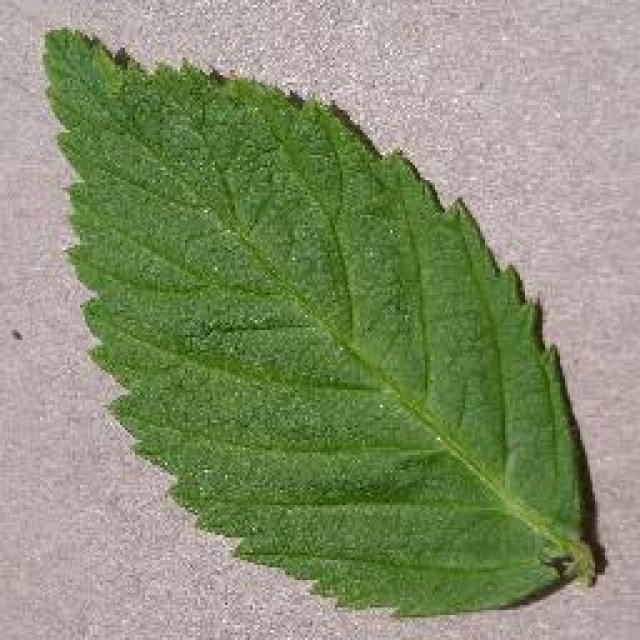Ras_healthy: (73, 69, 568, 590)
